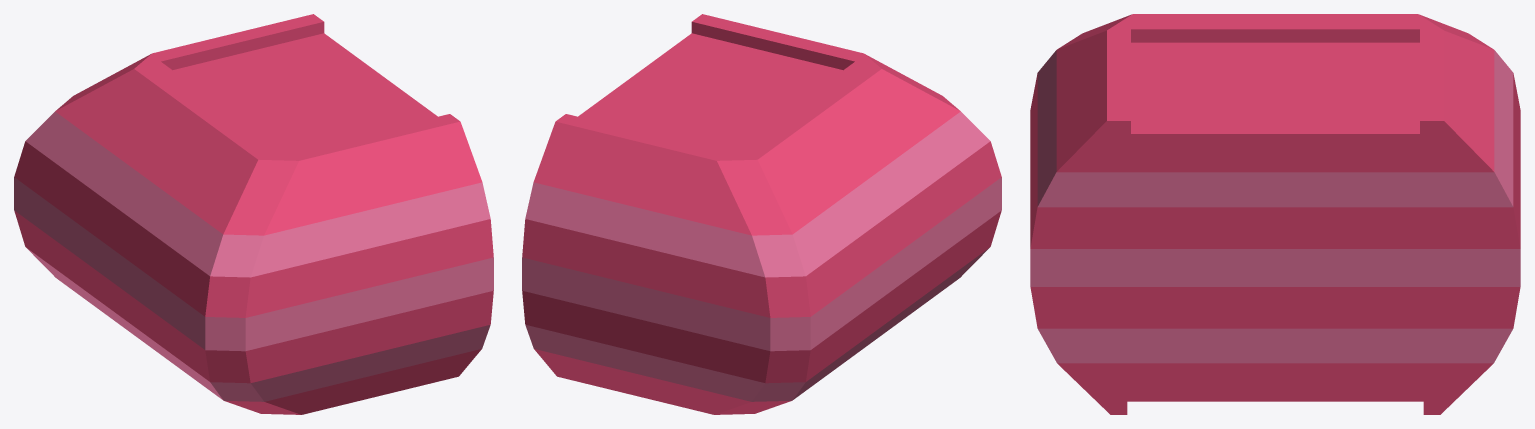
The model's file is SoupLeft.fbx.
3 views of the same model, side by side, from view 1: azimuth 30°, elevation 25°; view 2: azimuth 150°, elevation 25°; view 3: azimuth 270°, elevation 25° (orthographic). The views are drawn at different scales.
Visible parts, largest first — view 1: Куб.001; view 2: Куб.001; view 3: Куб.001.
Boxes of the visible parts, box(x1,y1,x2,y2) form: Куб.001: box(14, 14, 493, 414); Куб.001: box(522, 14, 1001, 414); Куб.001: box(1030, 14, 1520, 414).
Size of the model in its own units: 170 by 150 by 227.
